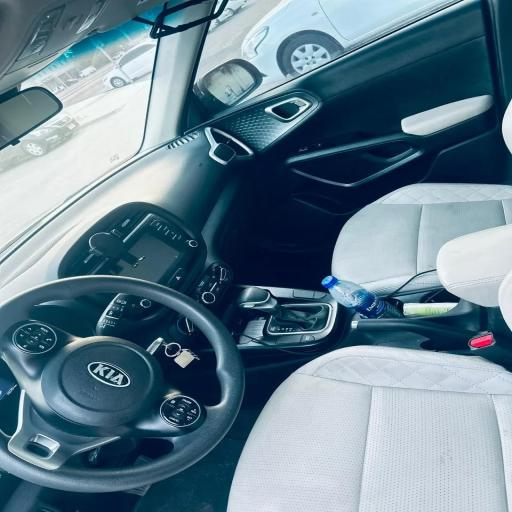license-plates: (66, 122, 77, 130)
